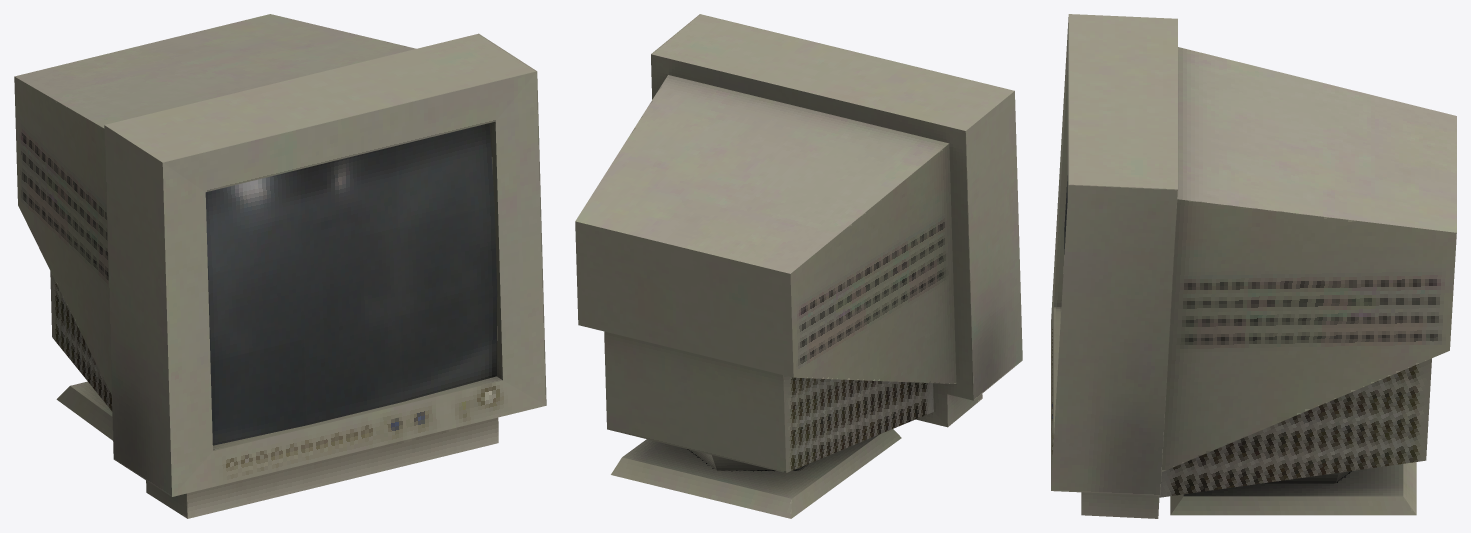
File: Computer Monitor.glb
3 renders of one model, left to right at view 1: azimuth 30°, elevation 25°; view 2: azimuth 150°, elevation 25°; view 3: azimuth 270°, elevation 25°, orthographic. The views are drawn at different scales.
Parts seen in each view (by area): view 1: PC Monitor; view 2: PC Monitor; view 3: PC Monitor.
Boxes of the visible parts, x1,y1,x2,y2 form: PC Monitor: (14,14,546,518); PC Monitor: (575,14,1022,518); PC Monitor: (1051,14,1456,518).
Bounding box in the file's own units: 0.6199 × 0.6207 × 0.6221.
Materials: 1 (1 with a texture image).
